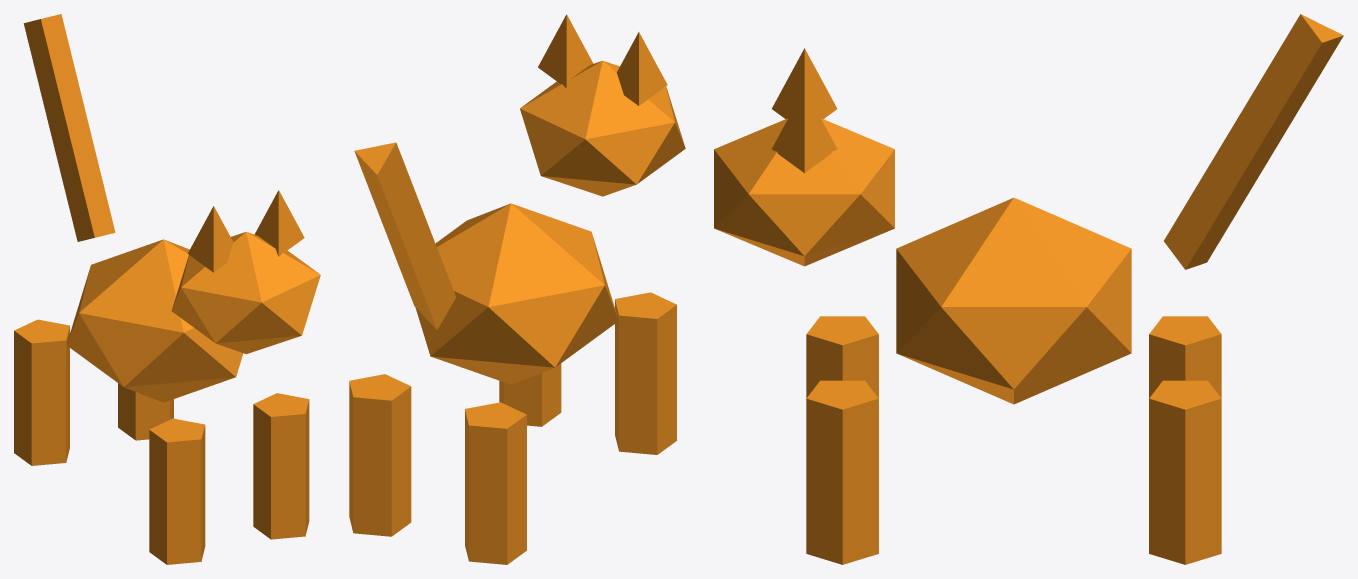
File: animal_cat.glb
3 views of the same model, side by side, from view 1: azimuth 30°, elevation 25°; view 2: azimuth 150°, elevation 25°; view 3: azimuth 270°, elevation 25° (orthographic). The views are drawn at different scales.
Visible parts, largest first — view 1: animal_cat; view 2: animal_cat; view 3: animal_cat.
Part boxes in pixels (<box>): animal_cat: <box>14,14,320,564</box>; animal_cat: <box>349,14,685,564</box>; animal_cat: <box>714,14,1343,564</box>.
Bounding box in the file's own units: 0.026 × 0.0576 × 0.0662.
